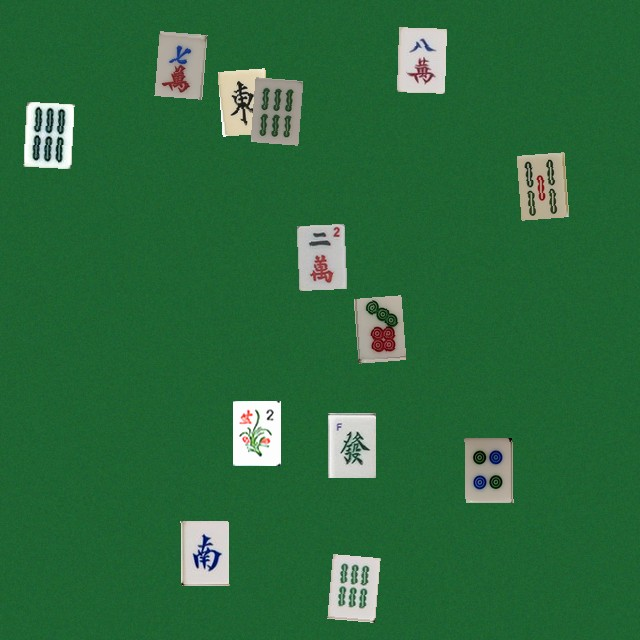tile: (516, 152, 564, 217), (327, 412, 375, 477), (180, 520, 228, 585), (154, 31, 202, 96), (396, 27, 444, 92), (296, 223, 344, 288), (217, 68, 265, 133), (232, 400, 280, 465), (23, 101, 71, 166), (250, 77, 298, 142), (327, 554, 375, 619), (353, 295, 401, 360), (464, 437, 512, 502)
